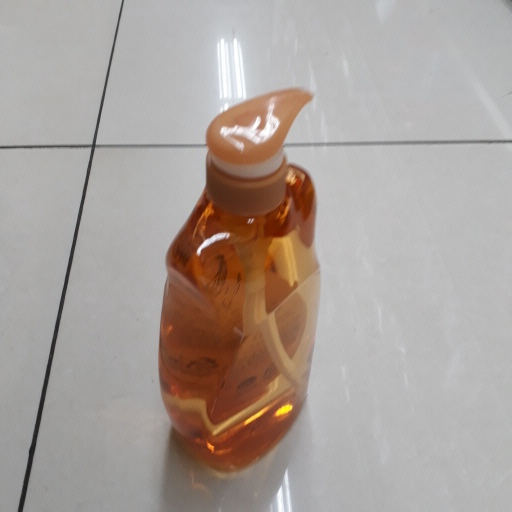Plastic_3: (155, 87, 321, 471)
